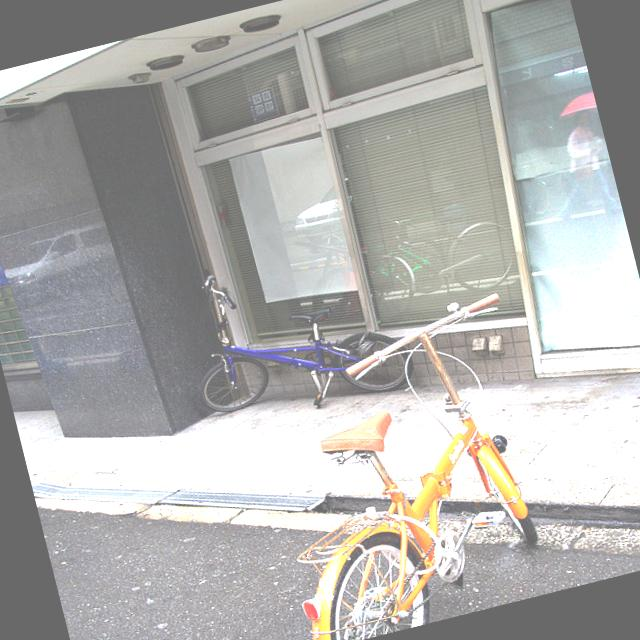Vehicle: (0, 216, 124, 305), (285, 185, 345, 240)
